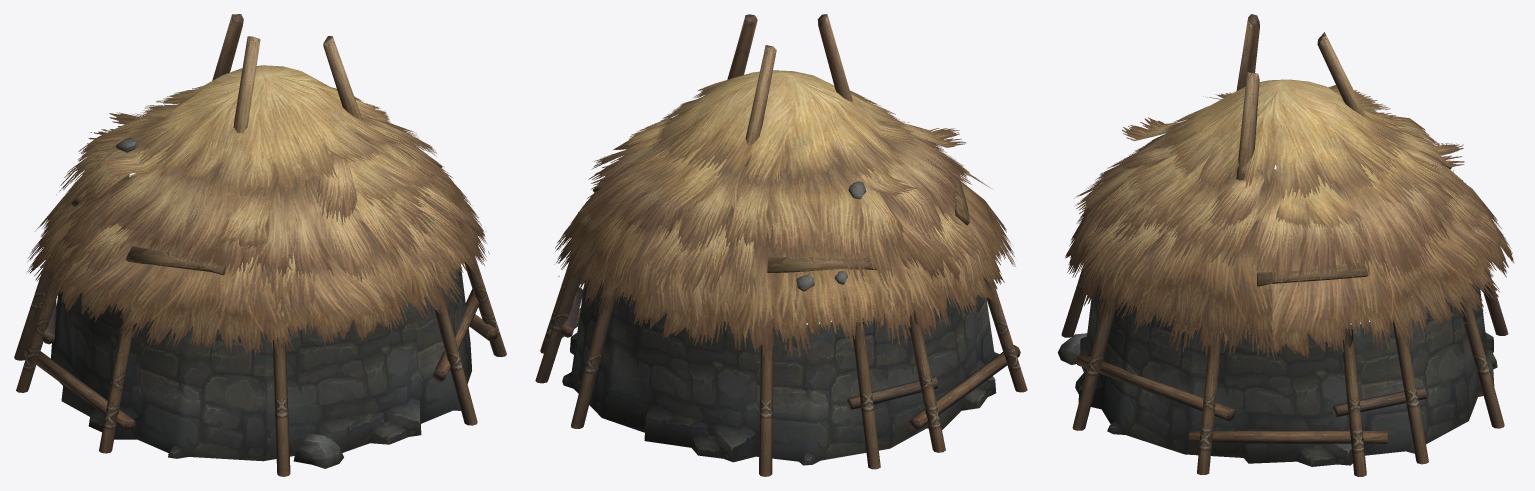
3 views of the same model, side by side, from view 1: azimuth 30°, elevation 25°; view 2: azimuth 150°, elevation 25°; view 3: azimuth 270°, elevation 25° (orthographic).
Parts seen in each view (by area): view 1: DC; view 2: DC; view 3: DC.
Boxes of the visible parts, x1=… form: DC: x1=14, y1=14, x2=506, y2=476; DC: x1=535, y1=14, x2=1027, y2=476; DC: x1=1057, y1=14, x2=1514, y2=476.
Size of the model in its own units: 921 by 903 by 751.
